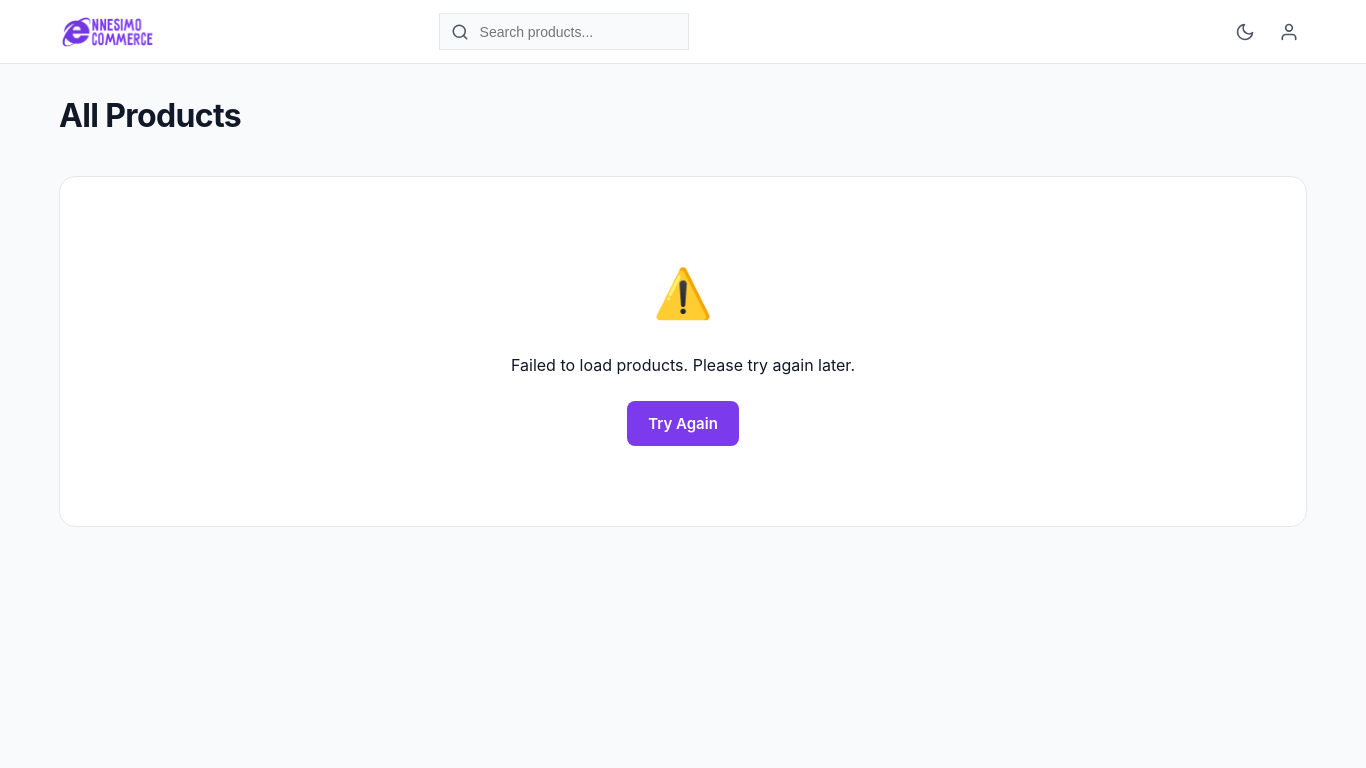
Login Flow › should show error message with invalid credentials
Click the button named "Open login modal" at (1289, 32), box x1=1271 y1=14 x2=1307 y2=50
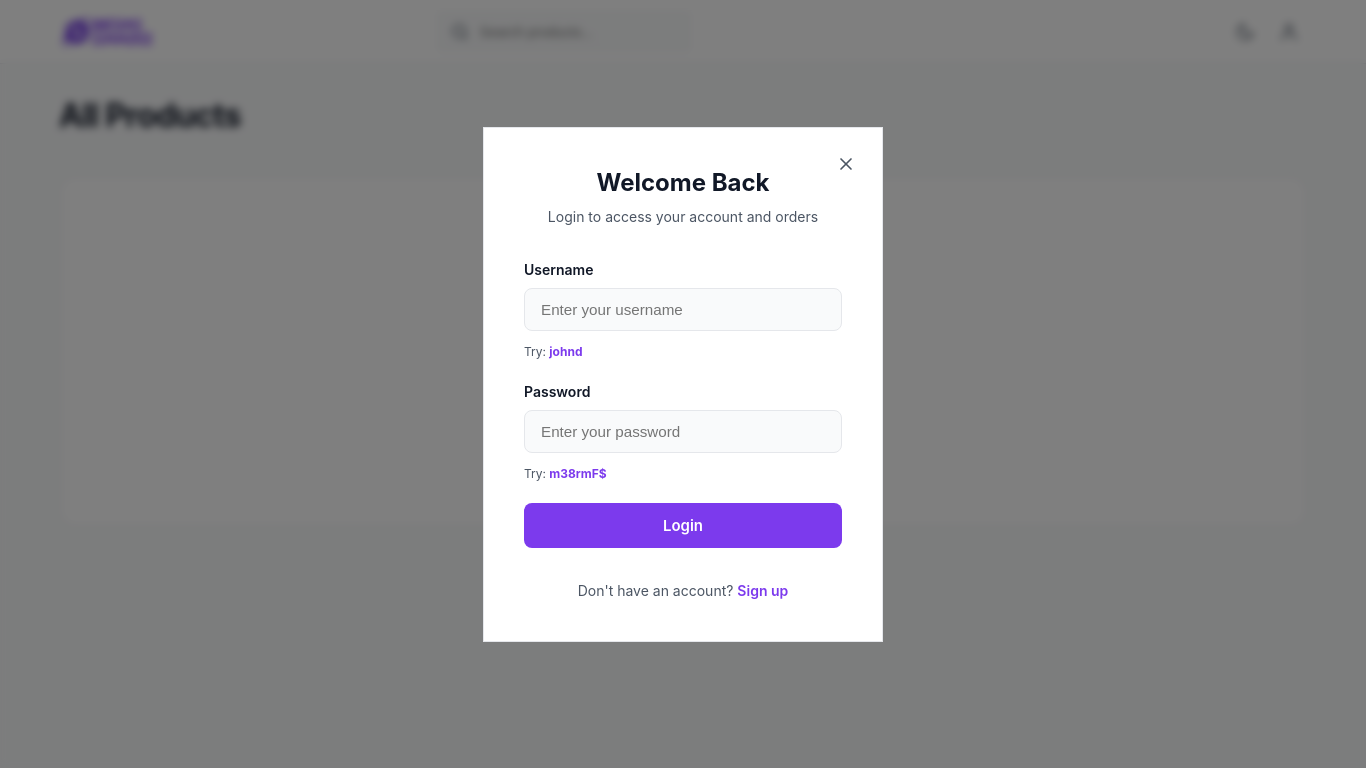
Expected: the element with test id "login-modal" is shown
Enter invalid credentials
Type "invaliduser" into the field with test id "username-input" at (683, 310), box x1=524 y1=288 x2=842 y2=331
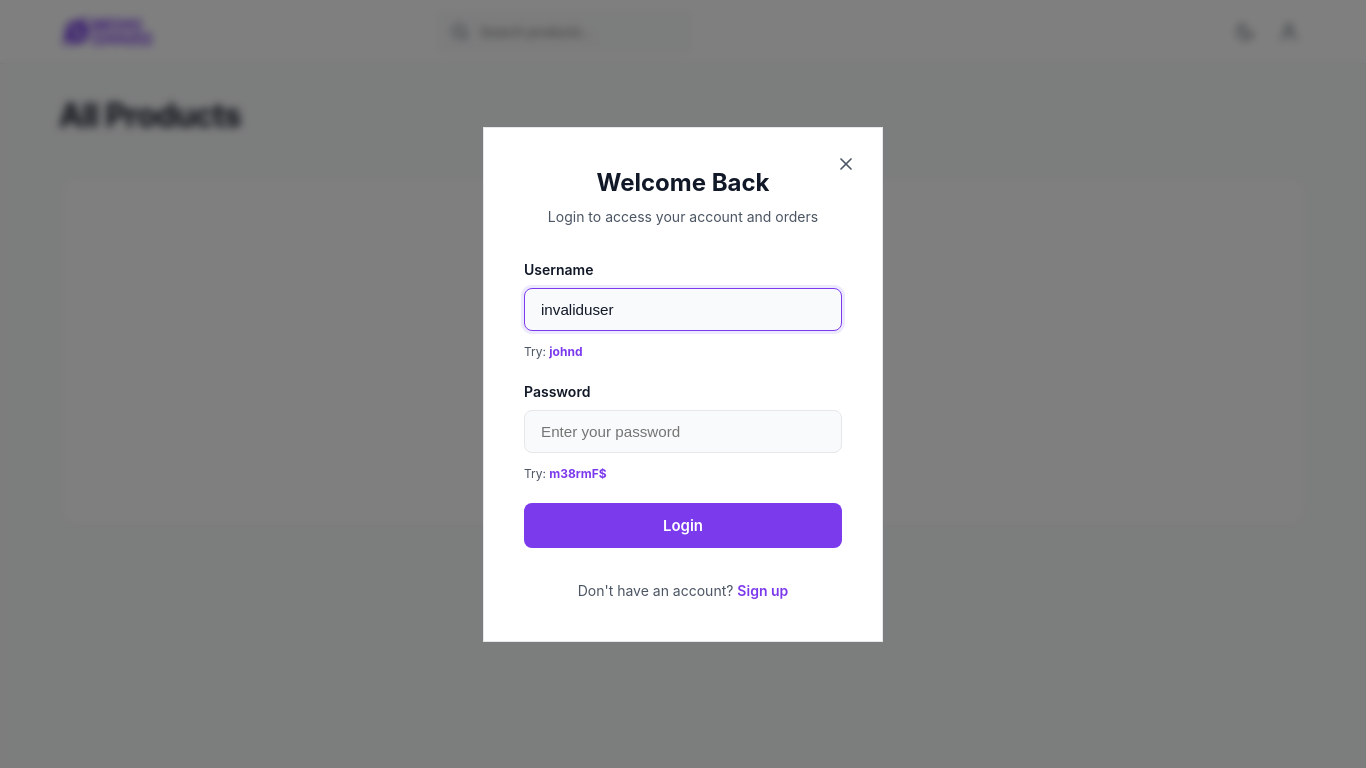
Type "wrongpassword" into the password field with test id "password-input" at (683, 432), box x1=524 y1=410 x2=842 y2=453
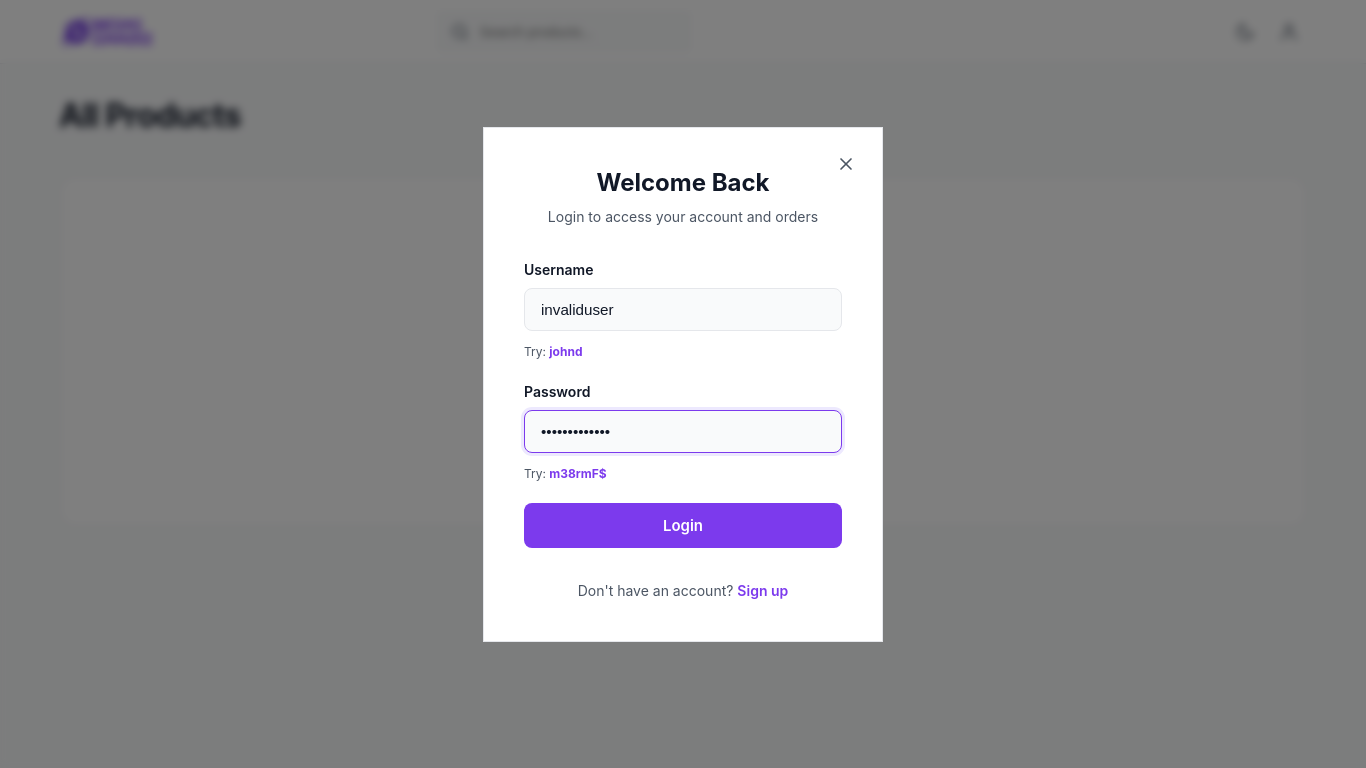
Click the button with test id "login-button" at (683, 526), box x1=524 y1=503 x2=842 y2=548
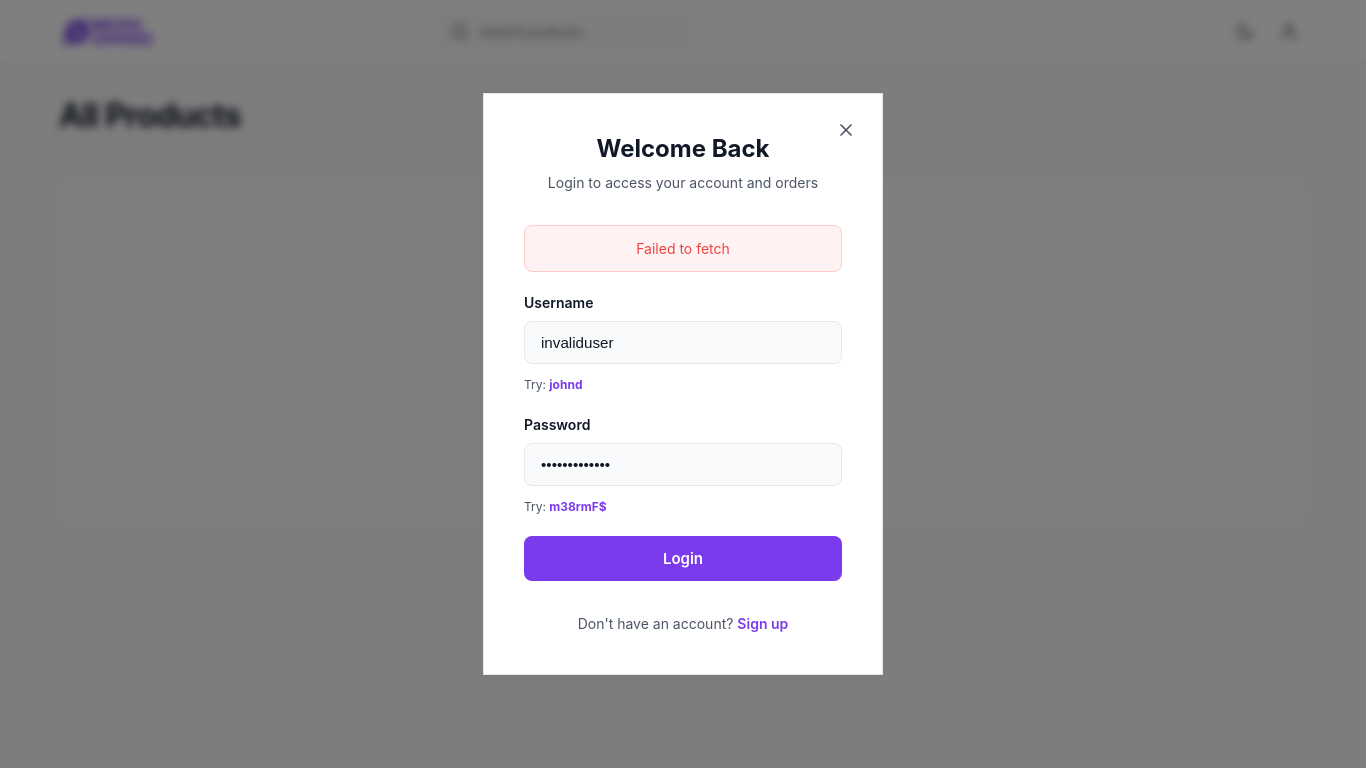
Expected: the element with test id "login-modal" is shown
Expected: the text "Failed to fetch" is shown, x1=524 y1=225 x2=842 y2=272
